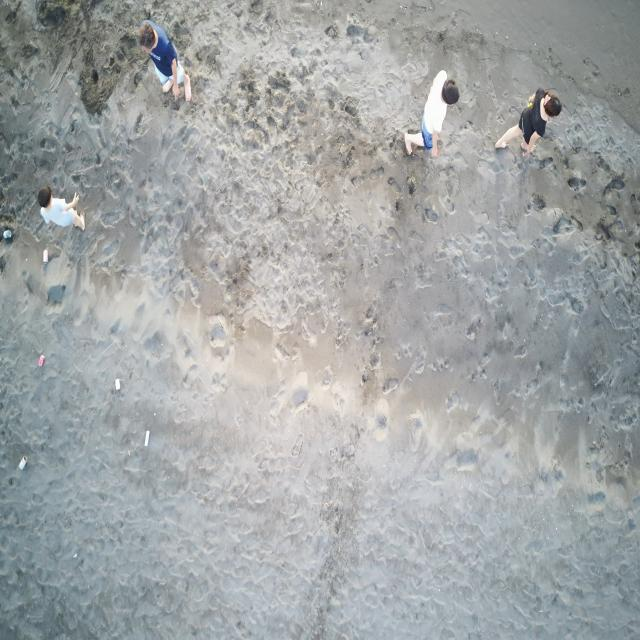tin-and-aluminum-cans: (19, 455, 28, 471), (1, 229, 13, 241), (144, 430, 151, 447), (42, 247, 49, 264), (38, 354, 45, 368), (115, 378, 121, 391)
